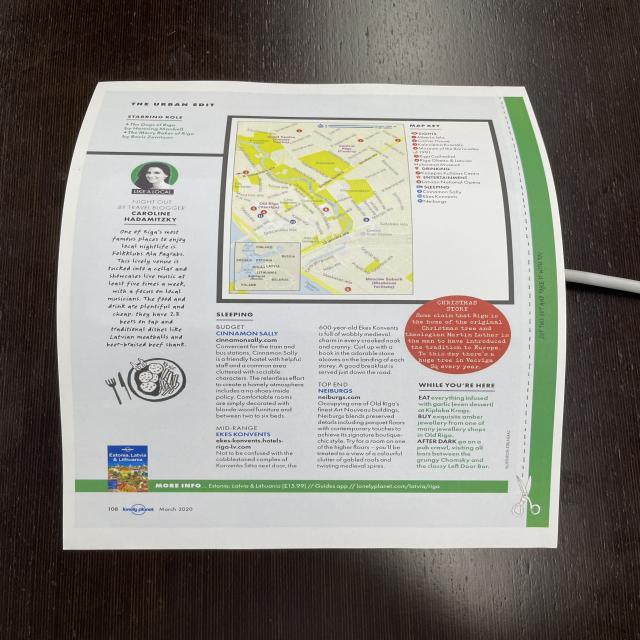document: (58, 81, 565, 549)
